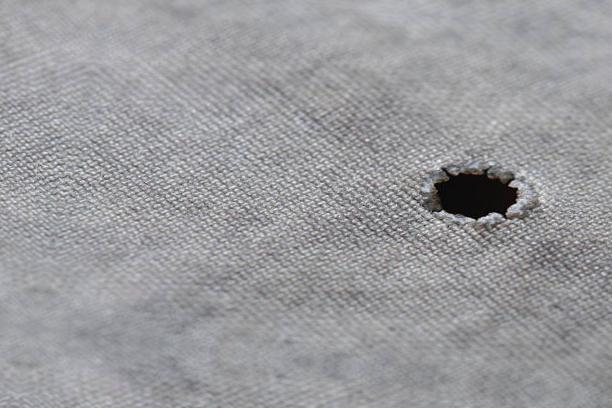hole: (420, 159, 539, 227)
